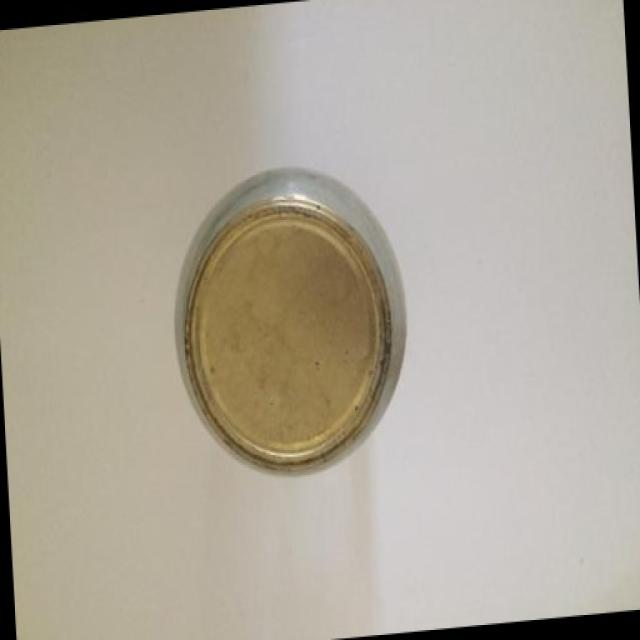vidrio: (120, 108, 442, 507)
